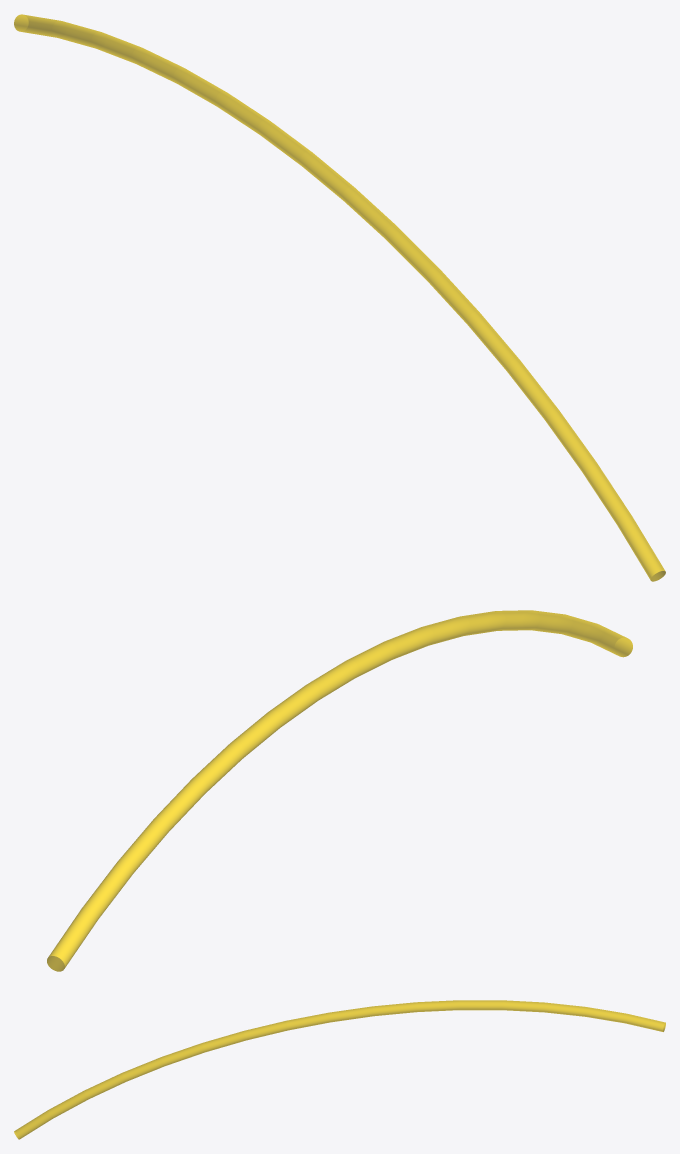
Rendered from Event_100608114_track_38.fbx.
3 views of the same model, one above another, from view 1: azimuth 30°, elevation 25°; view 2: azimuth 150°, elevation 25°; view 3: azimuth 270°, elevation 25° (orthographic). The views are drawn at different scales.
Visible parts, largest first — view 1: Model; view 2: Model; view 3: Model.
Part boxes in pixels (x1=…): Model: x1=14, y1=14, x2=665, y2=581; Model: x1=47, y1=610, x2=632, y2=971; Model: x1=14, y1=1000, x2=665, y2=1139.
Size of the model in its own units: 0.2244 by 0.5519 by 2.6.
